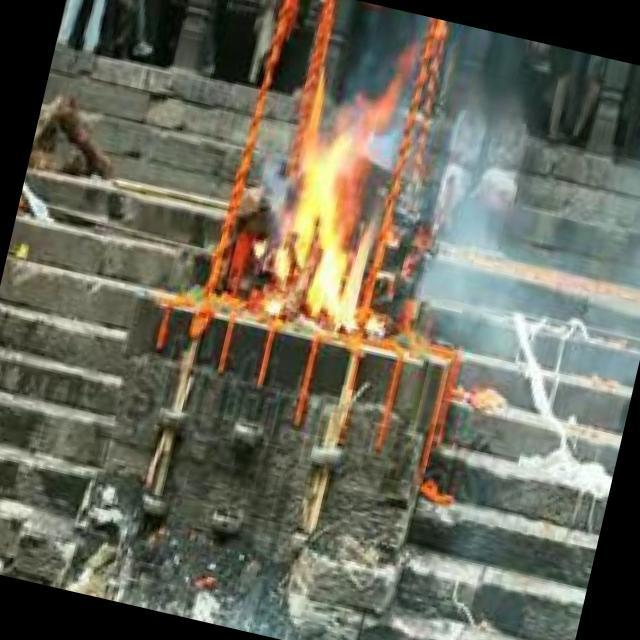Fire: (260, 116, 400, 338)
